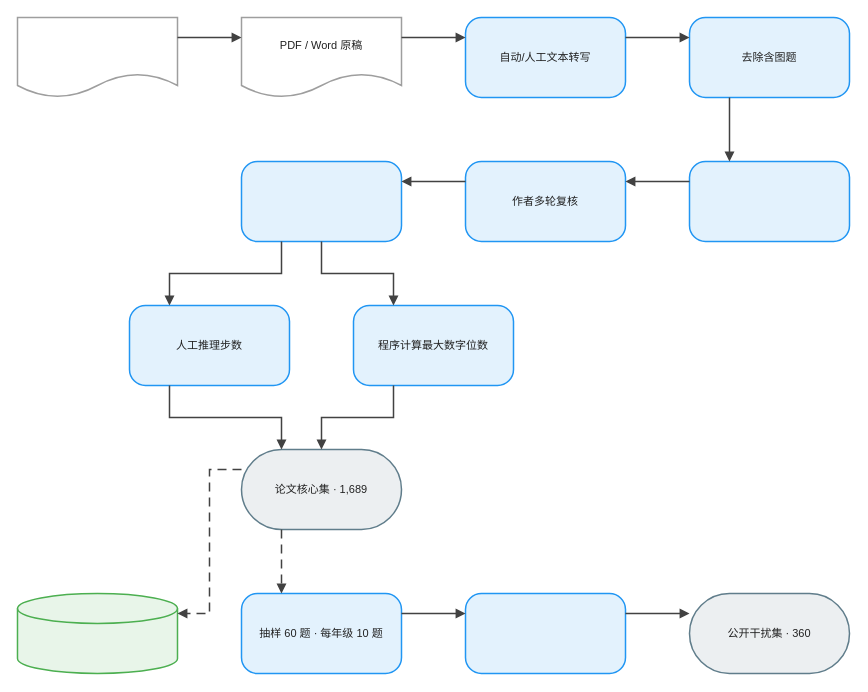
The diagram is 868 pixels wide and 692 high, and some of its shapes have lost their labels. The centre of each missing label's shape, as x and y in pixels:
公开开发集 · 600: (97,633)
年级 + 数值答案: (321,201)
添加 1-5 个数字干扰项: (545,633)
清洗去重: (769,201)
网上练习册 + 考试: (97,57)
